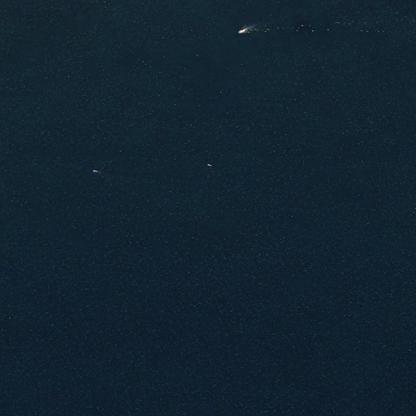ship: (232, 21, 253, 37), (84, 162, 104, 178), (200, 156, 215, 171)
